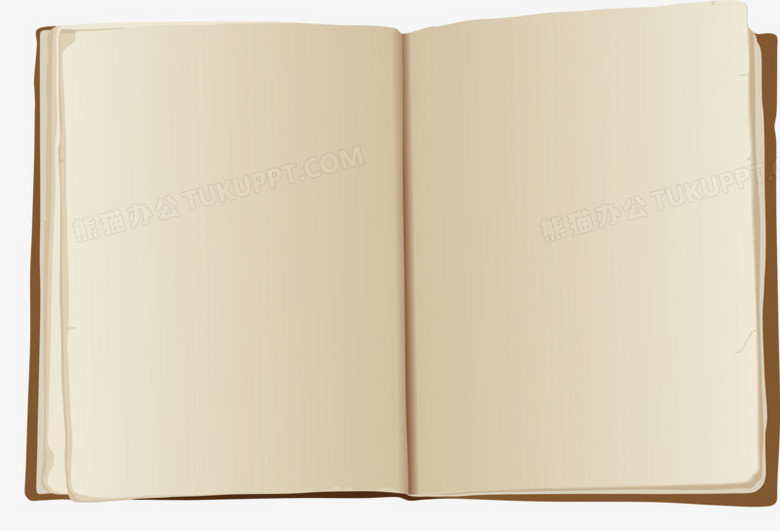book: (28, 11, 777, 509)
